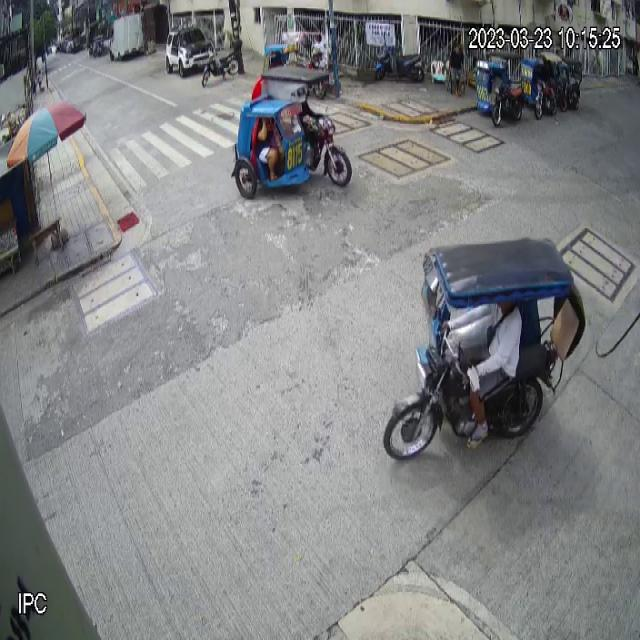Tricycle: (382, 230, 590, 482), (230, 64, 354, 206), (475, 52, 524, 128)
